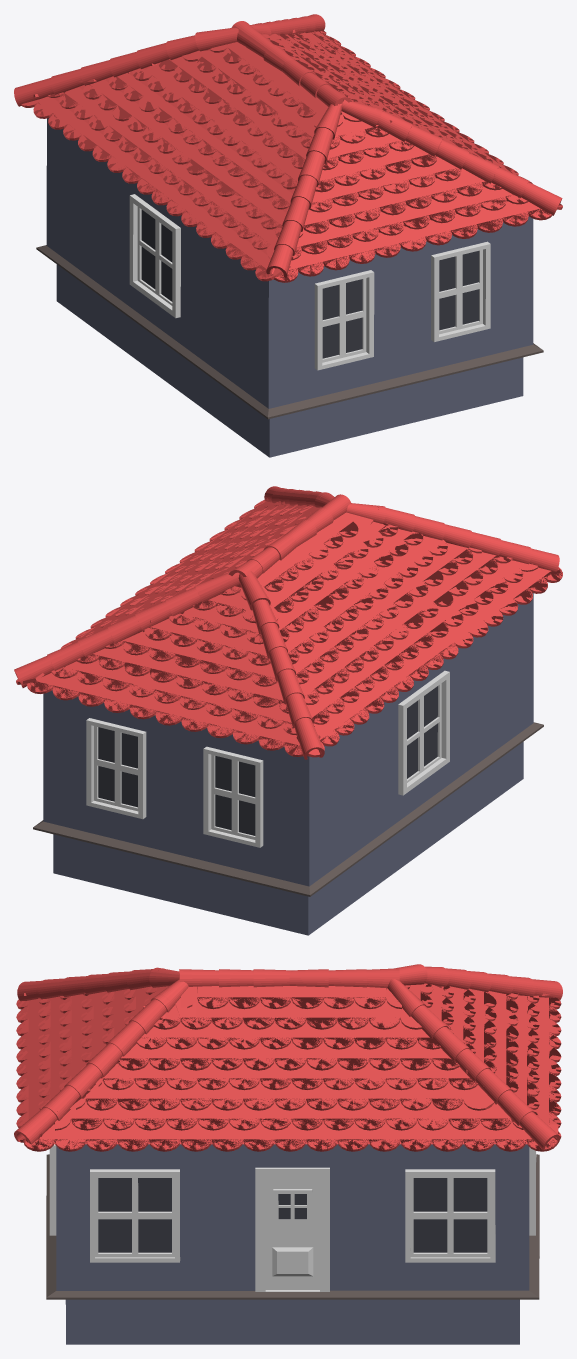
The model's file is small_house.fbx.
3 renders of one model, top to bottom at view 1: azimuth 30°, elevation 25°; view 2: azimuth 150°, elevation 25°; view 3: azimuth 270°, elevation 25°, orthographic. The views are drawn at different scales.
Parts seen in each view (by area): view 1: Cube.1346; view 2: Cube.1346; view 3: Cube.1346.
Part boxes in pixels (bbox=[...]): Cube.1346: bbox=[14, 14, 562, 457]; Cube.1346: bbox=[14, 486, 562, 935]; Cube.1346: bbox=[14, 964, 562, 1344].
Size of the model in its own units: 649 by 584 by 939.
